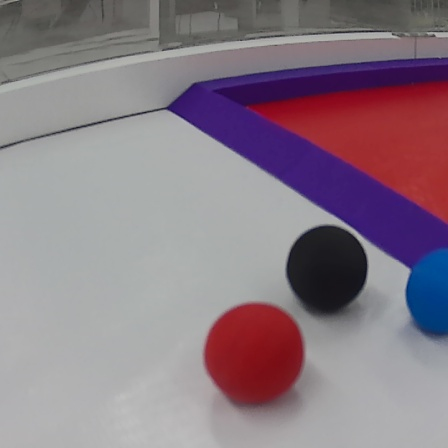black: (286, 222, 369, 314)
blue: (408, 246, 448, 337)
red: (203, 302, 310, 408)
red_aim: (173, 58, 448, 279)
